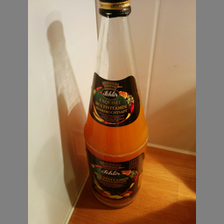juice: (83, 1, 150, 208)
